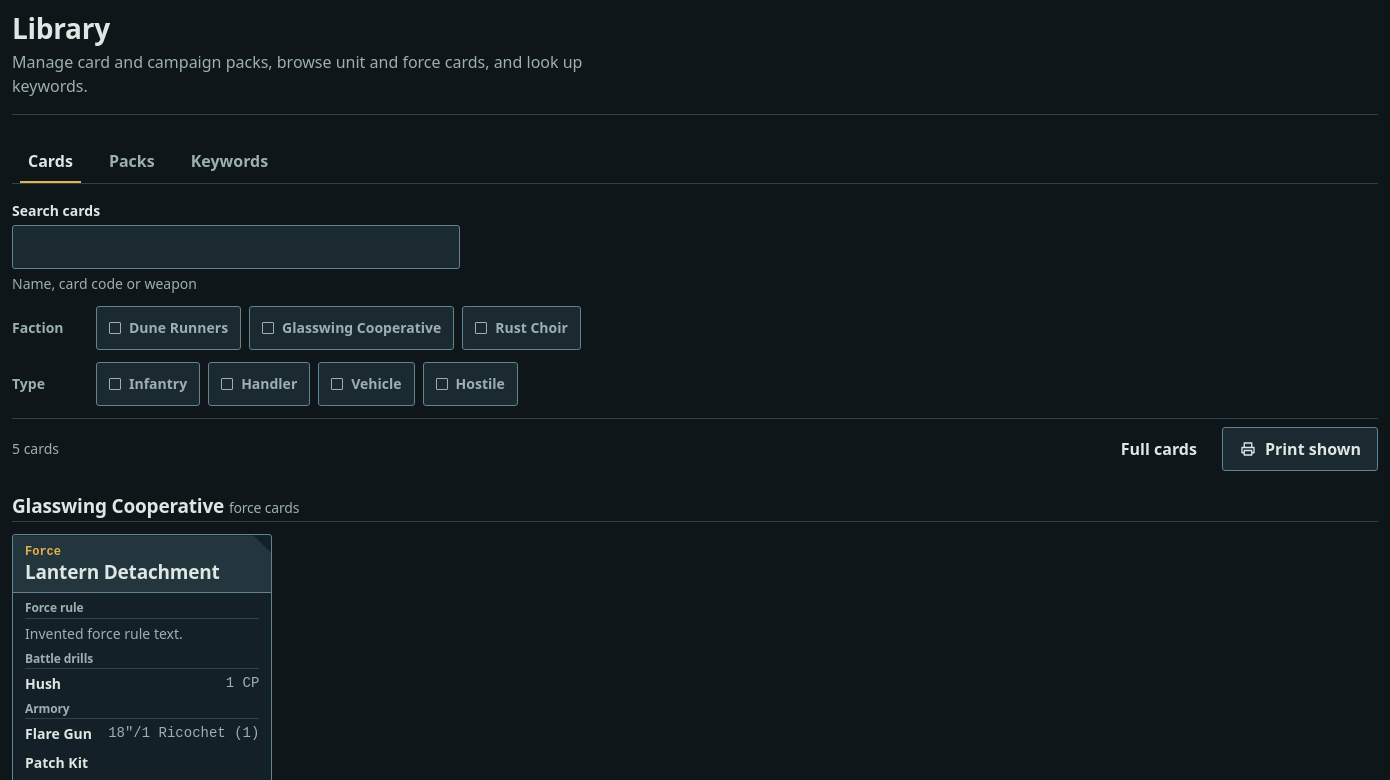
Scenario: LibraryPage › lists cards grouped by faction and packs on the packs tab
Click the tab "Packs". click: (132, 161)
box: [93,139,171,183]
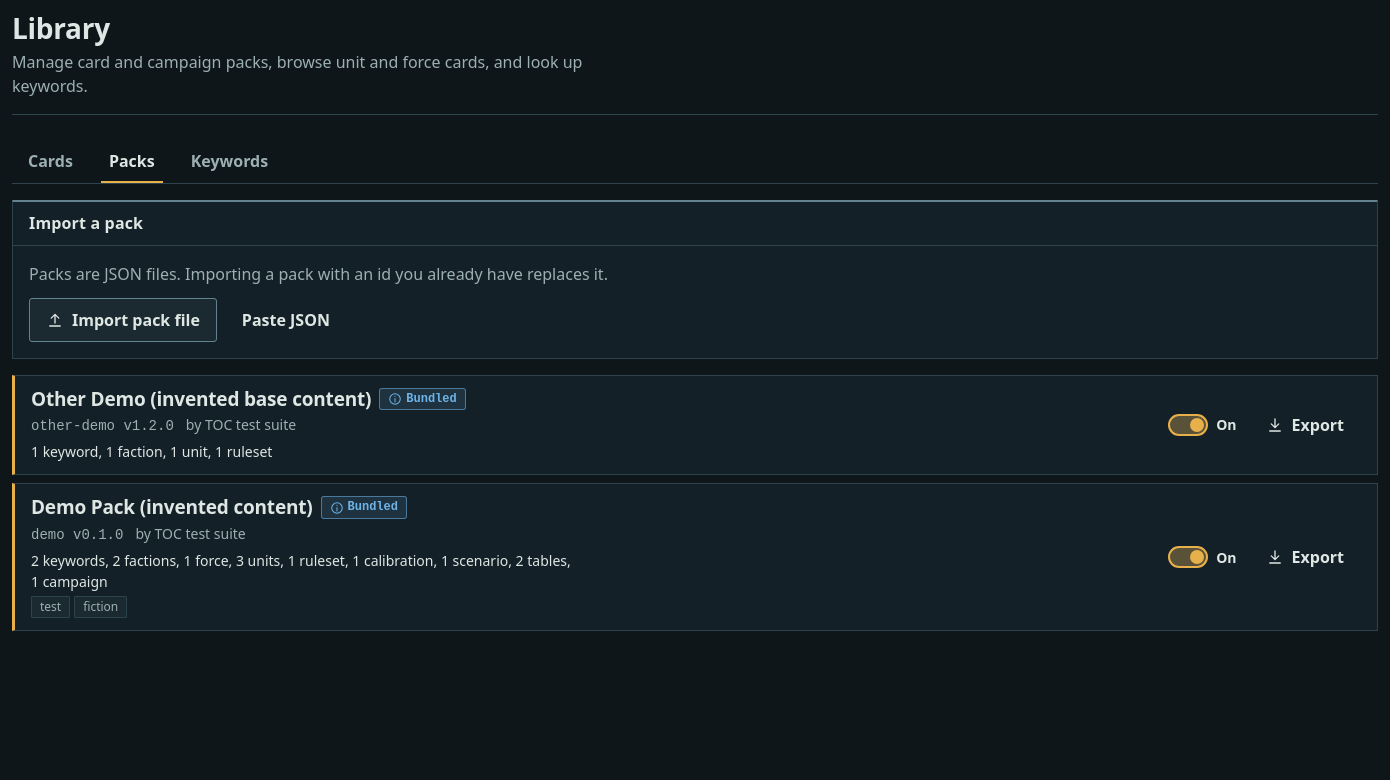
expect the text "Demo Pack (invented content)" is shown: met, box [31,496,313,519]
expect the number of switches is 2: met, box [1160,403,1244,447]; [1160,535,1244,579]
